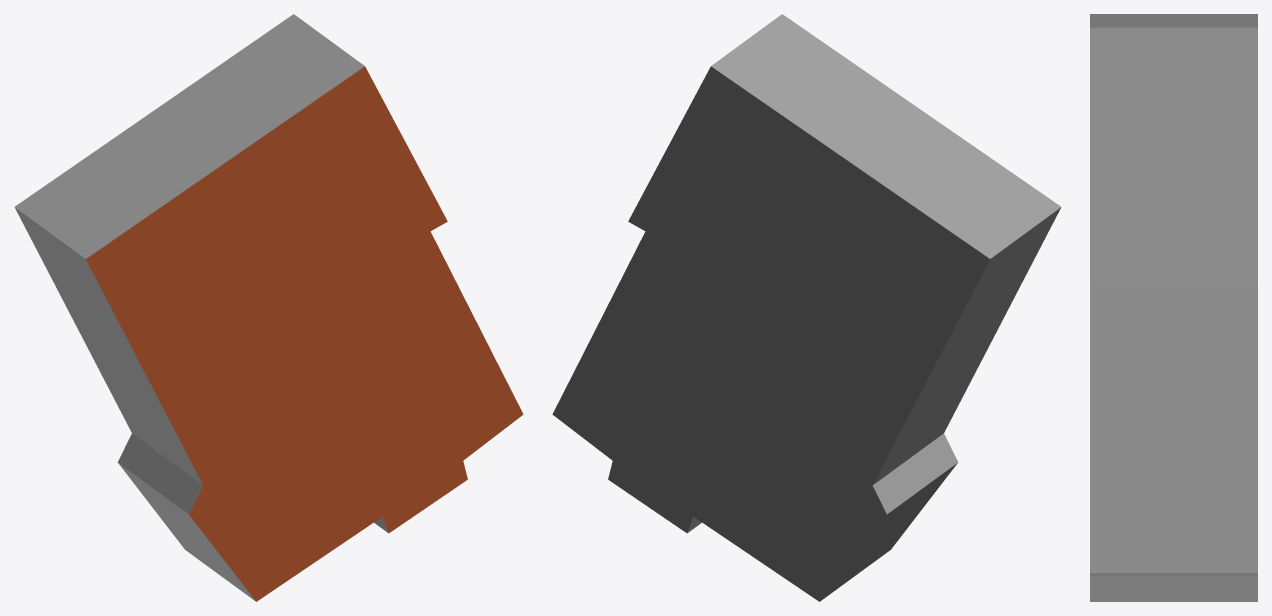
Rendered from construction_3306_assumed_A_Casa_h6m.obj.
3 renders of one model, left to right at view 1: azimuth 30°, elevation 25°; view 2: azimuth 150°, elevation 25°; view 3: azimuth 270°, elevation 25°, orthographic. The views are drawn at different scales.
Visible parts, largest first — view 1: construction_3306_assumed_A_Casa; view 2: construction_3306_assumed_A_Casa; view 3: construction_3306_assumed_A_Casa.
Part boxes in pixels (bbox=[...]): construction_3306_assumed_A_Casa: bbox=[14, 14, 523, 601]; construction_3306_assumed_A_Casa: bbox=[552, 14, 1061, 601]; construction_3306_assumed_A_Casa: bbox=[1090, 14, 1257, 601].
Bounding box in the file's own units: 21.25 × 23.62 × 6.
